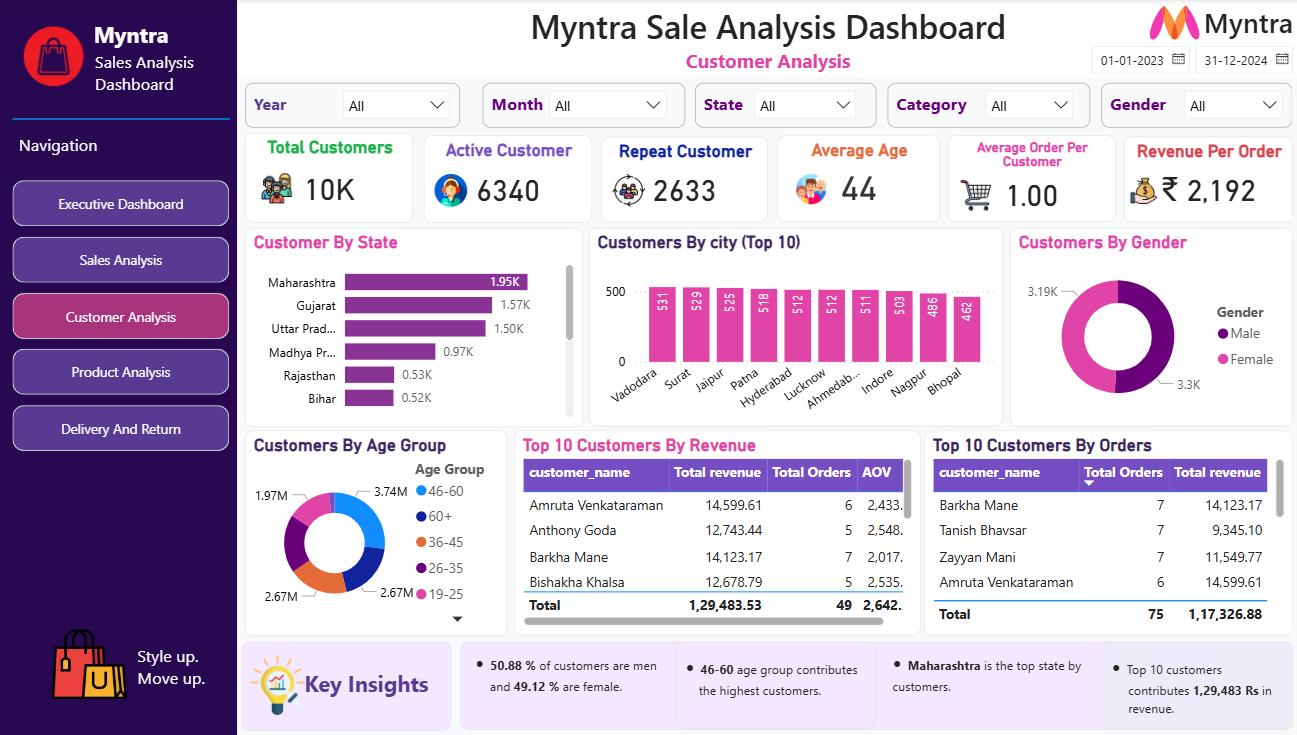

The page's visual inventory and layout, read from the dashboard file:
{"tool":"powerbi","page":{"name":"Customer Analysis","canvas":[1280,720],"ordinal":2},"visuals":[{"type":"shape","box":[9.6,0,231.9,720.4],"z":0},{"type":"textbox","box":[242.1,0,1038.2,77],"z":1000},{"type":"textbox","box":[61.1,14.7,128.4,41.6],"z":2000},{"type":"textbox","box":[97.8,45.2,118.6,55],"z":3000},{"type":"textbox","box":[23.3,126.2,102.9,49.4],"z":4000},{"type":"textbox","box":[1182.9,0,97.4,45.3],"z":5000},{"type":"image","box":[1114.2,2.7,90.6,42.5],"z":6000},{"type":"slicer","fields":{"Values":["order_clean.order_date"]},"box":[1065.1,35.5,215.2,41.6],"z":7000},{"type":"card","title":"Total Customers","fields":{"Values":["order_clean.Total customers"]},"box":[249.5,130.8,165.1,88],"z":8000},{"type":"card","title":"Active Customer","fields":{"Values":["customer_clean.Active Customer"]},"box":[424.3,133.3,165.1,85.6],"z":9000},{"type":"card","title":"Repeat Customer","fields":{"Values":["customer_clean.Repeat Customers"]},"box":[598.3,134.5,163.3,83.7],"z":10000},{"type":"donutChart","title":"Customers By Gender","fields":{"Y":["CountNonNull(customer_clean.customer_id)"],"Category":["customer_clean.Gender"]},"box":[997.8,223.8,277.6,194.4],"z":11000},{"type":"donutChart","title":"Customers By Age Group","fields":{"Category":["customer_clean.Age Group"],"Y":["order_clean.Total revenue"]},"box":[249.7,421.3,256.6,201.7],"z":12000},{"type":"tableEx","title":"Top 10 Customers By Orders","fields":{"Values":["customer_clean.customer_name","order_clean.Total Orders","order_clean.Total revenue"]},"box":[913.5,421.9,362,200.5],"z":13000},{"type":"textbox","box":[245.8,628.5,205.4,86.8],"z":14000},{"type":"textbox","box":[459.7,628.5,815.1,86.4],"z":15000},{"type":"image","box":[236,642,90.5,58.7],"z":16000},{"type":"textbox","box":[469.6,628.5,201.8,77],"z":17000},{"type":"textbox","box":[671.3,628.5,195.7,85.6],"z":18000},{"type":"textbox","box":[878,628.5,201.8,77],"z":19000},{"type":"textbox","box":[1088.3,628.5,187.1,85.6],"z":20000},{"type":"image","box":[260.5,170,40.4,30.6],"z":21000},{"type":"shape","box":[22,102.7,212.8,29.3],"z":22000},{"type":"textbox","box":[689.7,81.9,177.3,44],"z":23000},{"type":"textbox","box":[481.8,81.9,198.1,44],"z":24000},{"type":"textbox","box":[878,81.9,198.1,44],"z":25000},{"type":"textbox","box":[1087.1,81.9,187.1,44],"z":26000},{"type":"slicer","fields":{"Values":["customer_clean.Gender"]},"box":[1158,79.5,116.2,42.8],"z":27000},{"type":"pageNavigator","box":[22,177.3,212.8,267.8],"z":28000},{"type":"slicer","fields":{"Values":["products_clean.category"]},"box":[963.6,79.5,106.4,40.4],"z":29000},{"type":"slicer","fields":{"Values":["customer_clean.state"]},"box":[737.4,79.5,119.8,50.1],"z":30000},{"type":"slicer","fields":{"Values":["Date_table.Month"]},"box":[536.8,79.5,134.5,50.1],"z":31000},{"type":"textbox","box":[249.5,81.9,210.3,44],"z":32000},{"type":"slicer","fields":{"Values":["Date_table.Year"]},"box":[335.1,79.5,124.7,50.1],"z":33000},{"type":"textbox","box":[139.4,626.1,88,94.2],"z":34000},{"type":"image","box":[9.8,26.9,105.2,58.7],"z":35000},{"type":"image","box":[24.5,611.4,145.5,78.3],"z":36000},{"type":"advanceCardE03760C5AB684758B56AA29F9E6C257B","title":"Average Age","fields":{"mainMeasure":["customer_clean.Average Age"]},"box":[769.8,133.1,159.2,85.1],"z":37000},{"type":"card","title":"Average Order Per Customer","fields":{"Values":["customer_clean.Avg Orders per Customer"]},"box":[937.2,133.1,164.7,85.1],"z":38000},{"type":"card","title":"Revenue Per Order","fields":{"Values":["customer_clean.Revenue per Customer"]},"box":[1108.8,134.5,166,83.7],"z":39000},{"type":"clusteredBarChart","title":"Customer By State","fields":{"Category":["customer_clean.state"],"Y":["CountNonNull(customer_clean.customer_id)"]},"box":[249.7,223.7,330.7,194.9],"z":40000},{"type":"clusteredColumnChart","title":"Customers By city (Top 10)","fields":{"Y":["CountNonNull(customer_clean.customer_id)"],"Category":["customer_clean.city"]},"box":[585.7,223.8,406,194.4],"z":41000},{"type":"tableEx","title":"Top 10 Customers By Revenue","fields":{"Values":["customer_clean.customer_name","order_clean.Total revenue","order_clean.Total Orders","order_clean.AOV"]},"box":[512.4,421.9,398.6,200.5],"z":42000},{"type":"image","box":[944,177.3,40.4,29.3],"z":43000},{"type":"image","box":[1109.1,174.9,39.1,25.7],"z":44000},{"type":"image","box":[778.9,171.2,48.9,29.3],"z":45000},{"type":"image","box":[431.7,171.2,37.9,31.8],"z":46000},{"type":"image","box":[604.1,171.2,41.6,31.8],"z":47000}]}

Visuals, with their boxes in screenshot pixels (x1, y1, x2, y2), scaled from the page's 1280x720 canvas onto the 1297x735 screenshot:
shape: left=10, top=0, right=245, bottom=734
textbox: left=245, top=0, right=1296, bottom=79
textbox: left=62, top=15, right=192, bottom=57
textbox: left=99, top=46, right=219, bottom=102
textbox: left=24, top=129, right=128, bottom=179
textbox: left=1199, top=0, right=1296, bottom=46
image: left=1129, top=3, right=1221, bottom=46
slicer - order_clean.order_date: left=1079, top=36, right=1296, bottom=79
"Total Customers" card: left=253, top=134, right=420, bottom=223
"Active Customer" card: left=430, top=136, right=597, bottom=223
"Repeat Customer" card: left=606, top=137, right=772, bottom=223
"Customers By Gender" donutChart: left=1011, top=228, right=1292, bottom=427
"Customers By Age Group" donutChart: left=253, top=430, right=513, bottom=636
"Top 10 Customers By Orders" tableEx: left=926, top=431, right=1292, bottom=635
textbox: left=249, top=642, right=457, bottom=730
textbox: left=466, top=642, right=1292, bottom=730
image: left=239, top=655, right=331, bottom=715
textbox: left=476, top=642, right=680, bottom=720
textbox: left=680, top=642, right=879, bottom=729
textbox: left=890, top=642, right=1094, bottom=720
textbox: left=1103, top=642, right=1292, bottom=729
image: left=264, top=174, right=305, bottom=205
shape: left=22, top=105, right=238, bottom=135
textbox: left=699, top=84, right=879, bottom=129
textbox: left=488, top=84, right=689, bottom=129
textbox: left=890, top=84, right=1090, bottom=129
textbox: left=1102, top=84, right=1291, bottom=129
slicer - customer_clean.Gender: left=1173, top=81, right=1291, bottom=125
pageNavigator: left=22, top=181, right=238, bottom=454
slicer - products_clean.category: left=976, top=81, right=1084, bottom=122
slicer - customer_clean.state: left=747, top=81, right=869, bottom=132
slicer - Date_table.Month: left=544, top=81, right=680, bottom=132
textbox: left=253, top=84, right=466, bottom=129
slicer - Date_table.Year: left=340, top=81, right=466, bottom=132
textbox: left=141, top=639, right=230, bottom=734
image: left=10, top=27, right=117, bottom=87
image: left=25, top=624, right=172, bottom=704
"Average Age" advanceCardE03760C5AB684758B56AA29F9E6C257B: left=780, top=136, right=941, bottom=223
"Average Order Per Customer" card: left=950, top=136, right=1117, bottom=223
"Revenue Per Order" card: left=1124, top=137, right=1292, bottom=223
"Customer By State" clusteredBarChart: left=253, top=228, right=588, bottom=427
"Customers By city (Top 10)" clusteredColumnChart: left=593, top=228, right=1005, bottom=427
"Top 10 Customers By Revenue" tableEx: left=519, top=431, right=923, bottom=635
image: left=957, top=181, right=997, bottom=211
image: left=1124, top=179, right=1163, bottom=205
image: left=789, top=175, right=839, bottom=205
image: left=437, top=175, right=476, bottom=207
image: left=612, top=175, right=654, bottom=207
